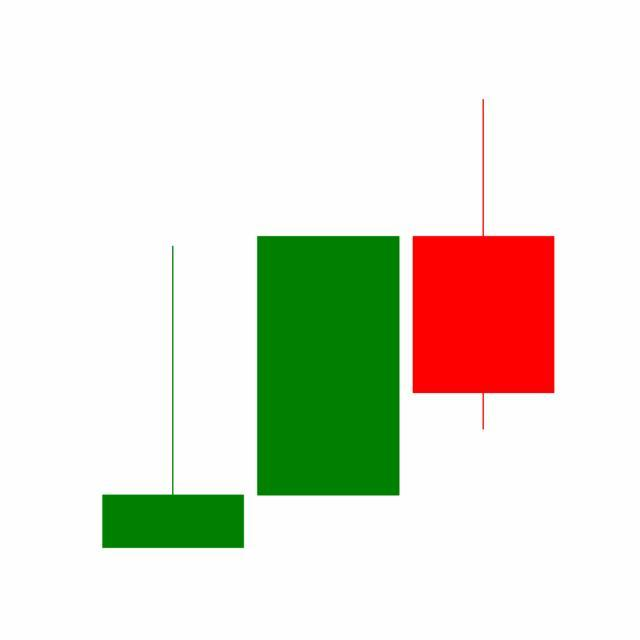Marubozu: (250, 234, 407, 499)
